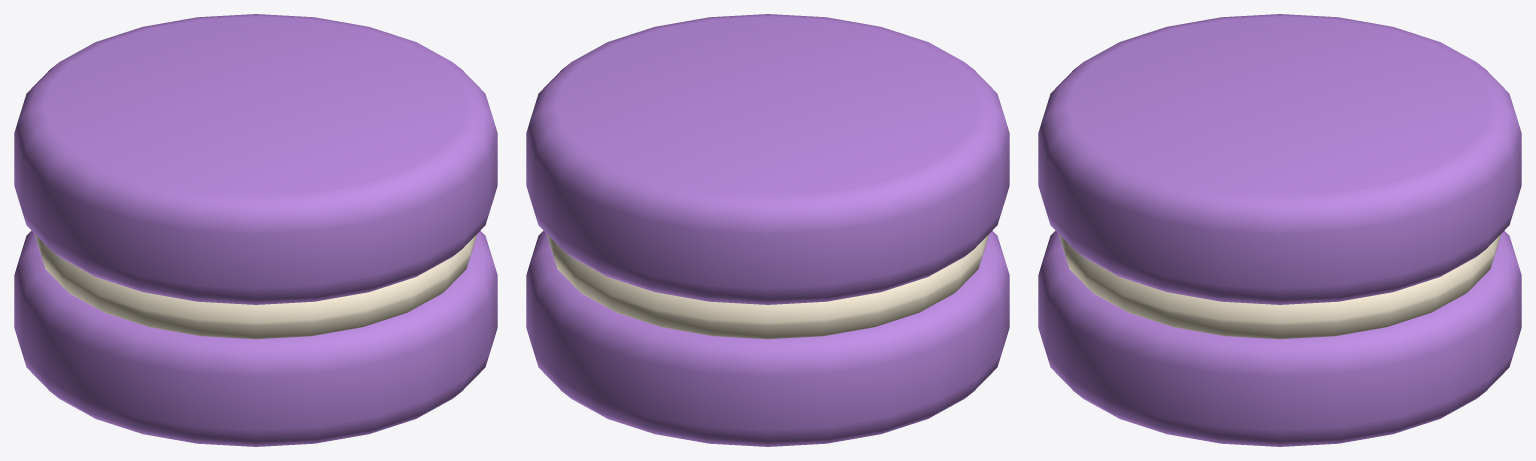
Rendered from macaron.glb.
3 views of the same model, side by side, from view 1: azimuth 30°, elevation 25°; view 2: azimuth 150°, elevation 25°; view 3: azimuth 270°, elevation 25° (orthographic).
Visible parts, largest first — view 1: macaron; view 2: macaron; view 3: macaron.
Boxes of the visible parts, bbox=[...] form: macaron: bbox=[14, 14, 497, 446]; macaron: bbox=[526, 14, 1009, 446]; macaron: bbox=[1038, 14, 1521, 446].
Size of the model in its own units: 1 by 0.5676 by 1.
